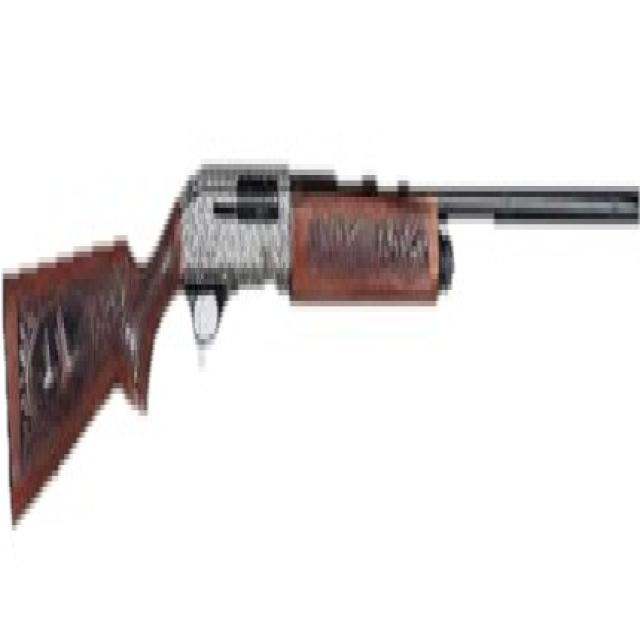rifle: (2, 151, 640, 534)
